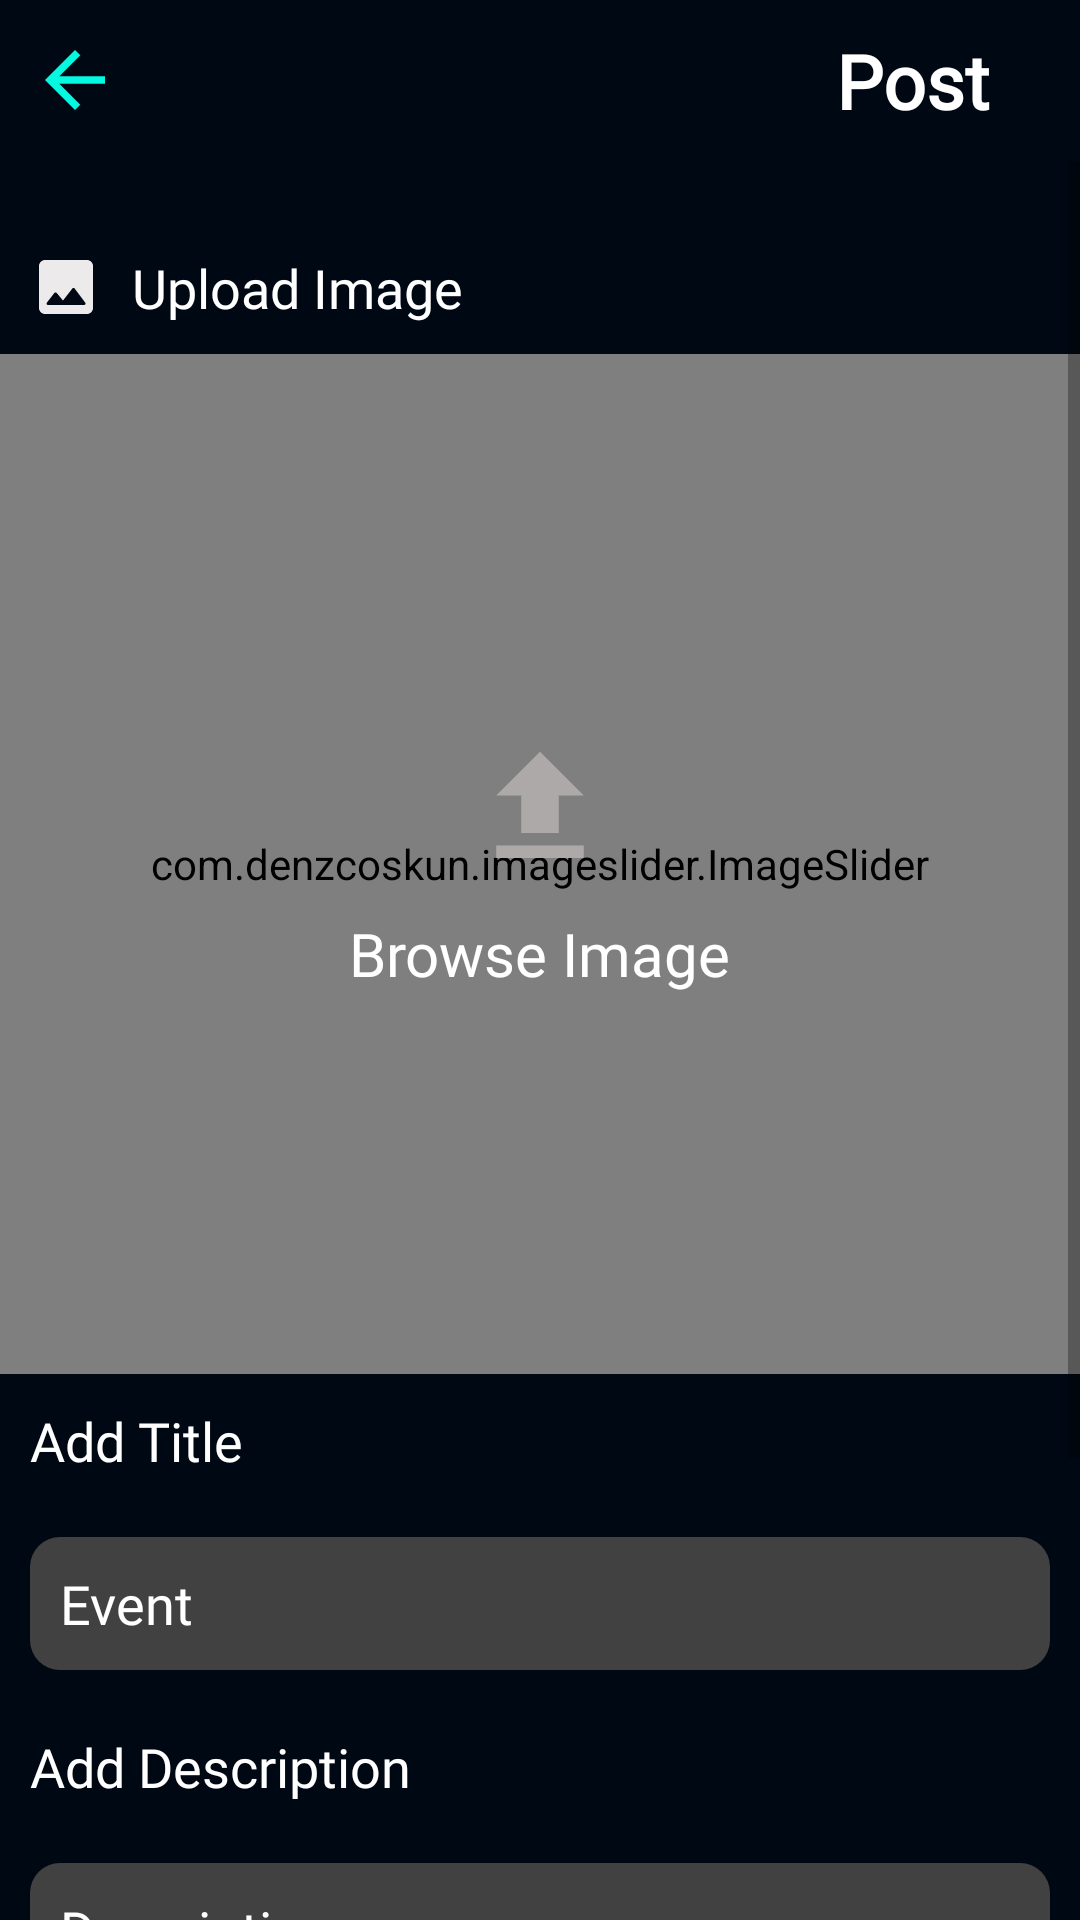

Icons on this 1080×1920 Android screen, each with its box as box=[x1, y1, x2, y2]:
arrow back: box=[45, 50, 105, 110]
upload: box=[473, 752, 615, 881]
